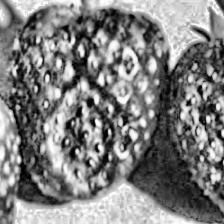Anthracnose Fruit Rot: (46, 94, 117, 190), (184, 60, 224, 179)
